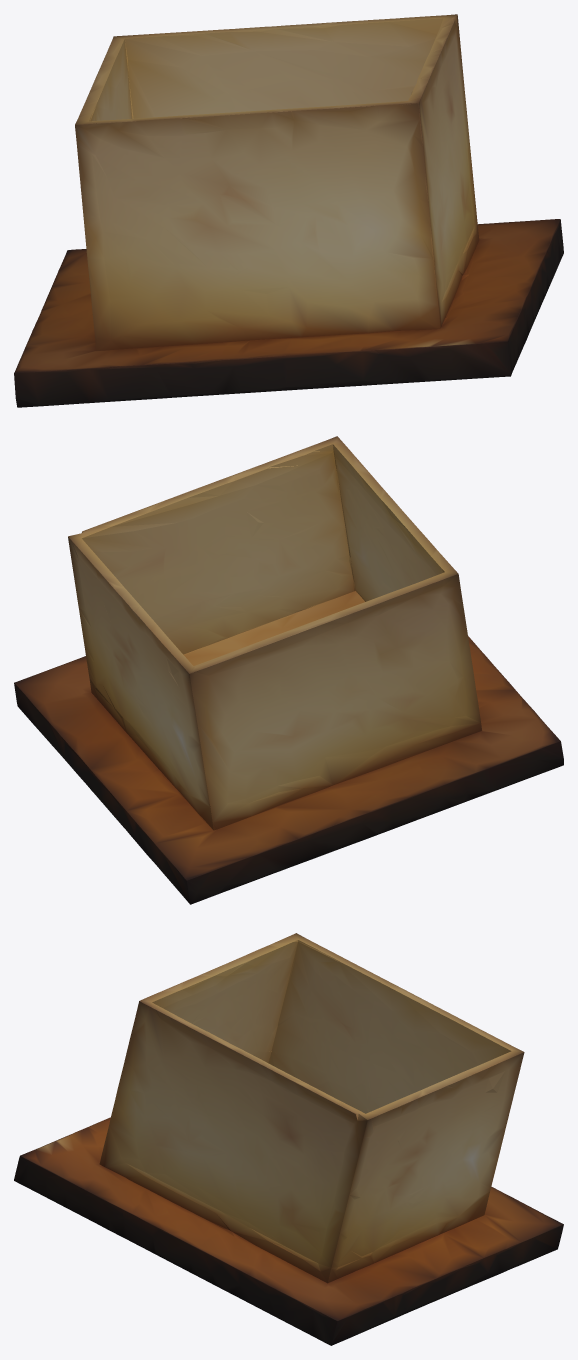
File: step3_after_kpm_original_00.obj
The picture shows the model from 3 angles, top to bottom: view 1: azimuth 30°, elevation 25°; view 2: azimuth 150°, elevation 25°; view 3: azimuth 270°, elevation 25°; orthographic projection. The views are drawn at different scales.
Size of the model in its own units: 0.5147 by 0.2873 by 0.5089.
